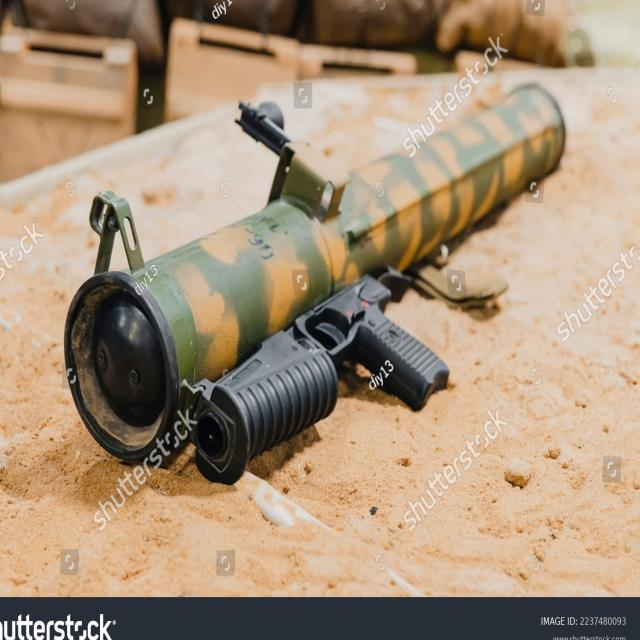Weapon: (64, 84, 564, 482)
